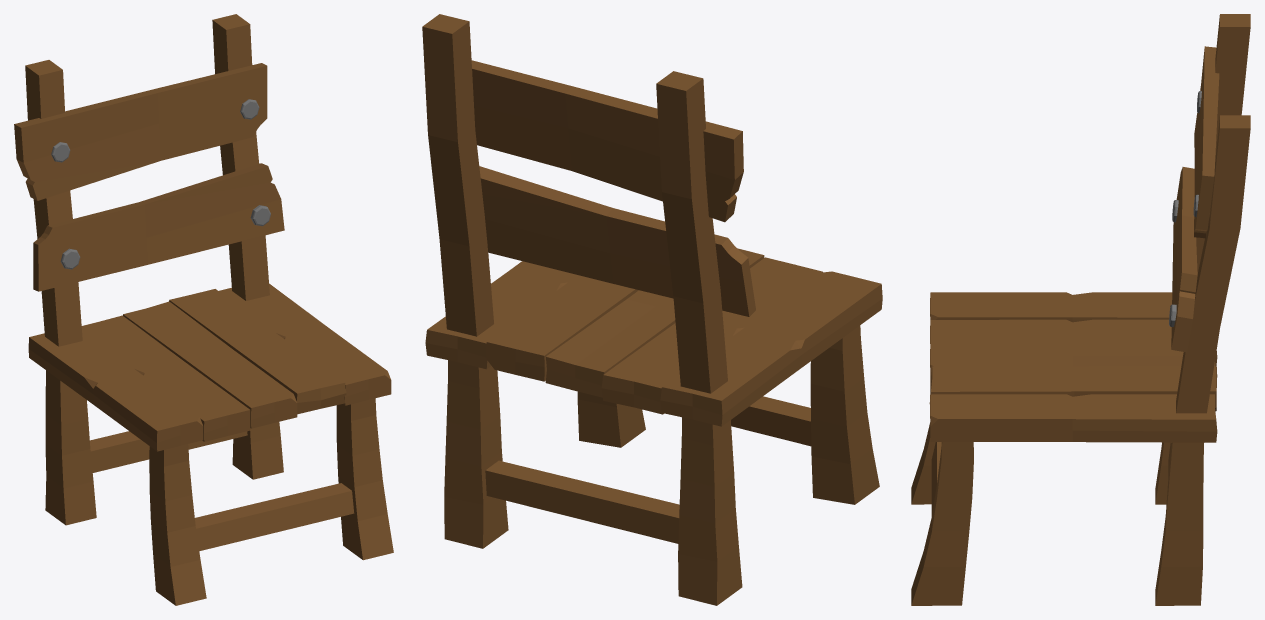
The model's file is Wood-Silla.fbx.
3 renders of one model, left to right at view 1: azimuth 30°, elevation 25°; view 2: azimuth 150°, elevation 25°; view 3: azimuth 270°, elevation 25°, orthographic. The views are drawn at different scales.
Parts seen in each view (by area): view 1: Cube.002; view 2: Cube.002; view 3: Cube.002.
Boxes of the visible parts, bbox=[...] form: Cube.002: bbox=[14, 14, 393, 605]; Cube.002: bbox=[422, 14, 882, 605]; Cube.002: bbox=[911, 14, 1250, 605].
Size of the model in its own units: 224 by 369 by 239.
